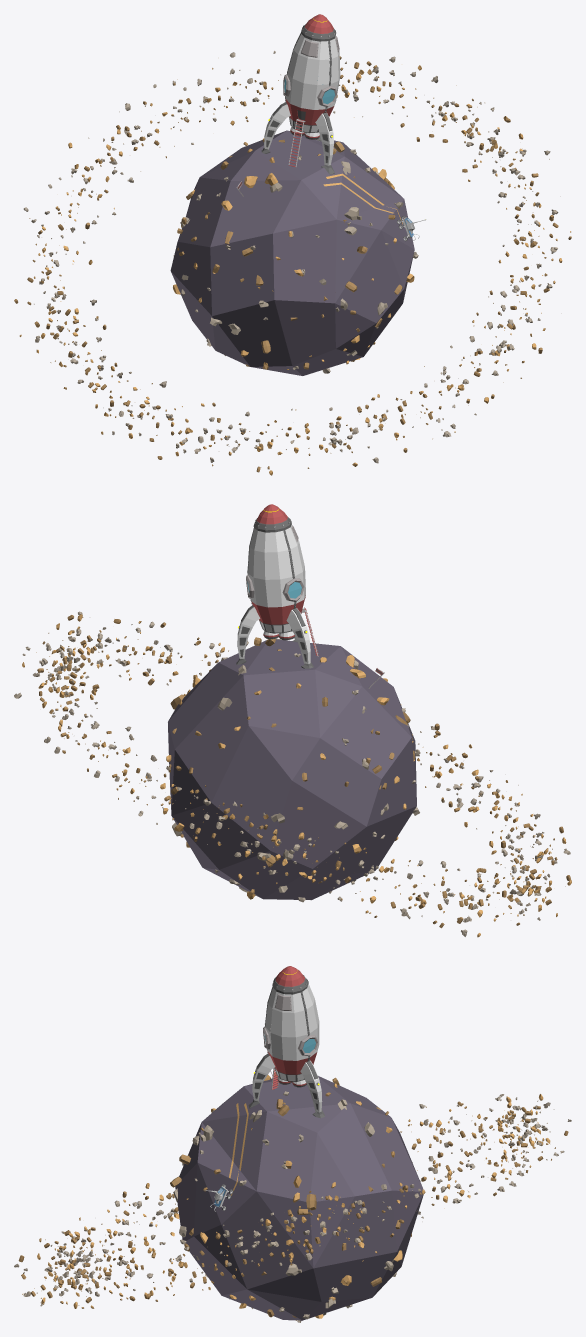
3 views of the same model, one above another, from view 1: azimuth 30°, elevation 25°; view 2: azimuth 150°, elevation 25°; view 3: azimuth 270°, elevation 25° (orthographic). The views are drawn at different scales.
Visible parts, largest first — view 1: planet.002, planet.003; view 2: planet.002, planet.003; view 3: planet.002, planet.003.
Part boxes in pixels (<box>): planet.002: <box>15,14,571,475</box>; planet.003: <box>14,33,570,474</box>; planet.002: <box>16,504,571,937</box>; planet.003: <box>14,528,571,927</box>; planet.002: <box>14,966,569,1322</box>; planet.003: <box>18,987,571,1308</box>.
Bounding box in the file's own units: 30.55 × 22.9 × 31.63.
Materials: 1 (1 with a texture image).
